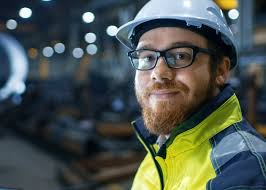Person_wearing_helmet: (108, 0, 240, 80)
